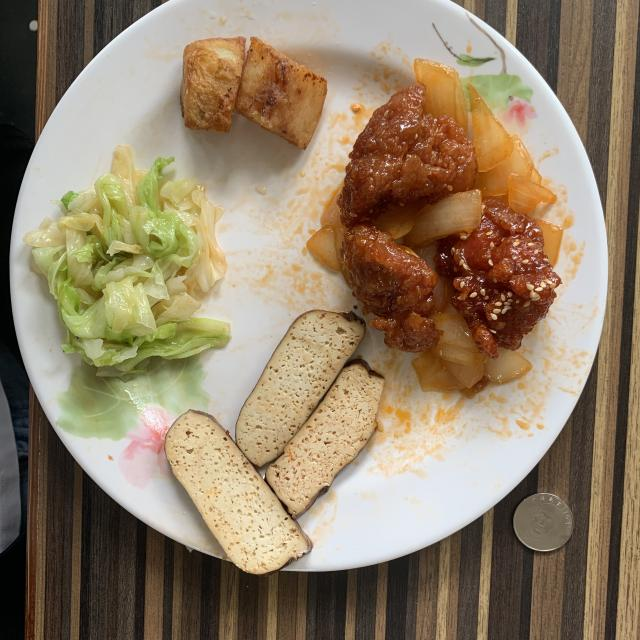cabbage: (22, 149, 229, 375)
coin: (514, 492, 574, 551)
firm tofu: (165, 310, 384, 574)
fried potato: (181, 36, 326, 149)
